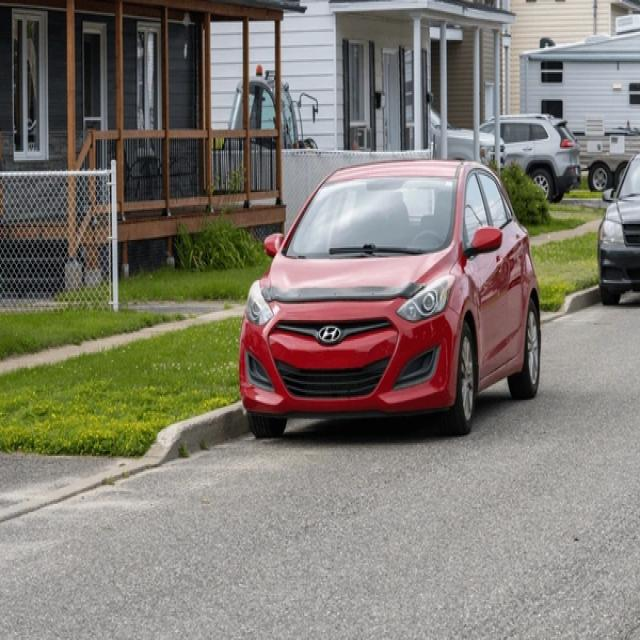hyundai: (318, 323, 342, 348)
